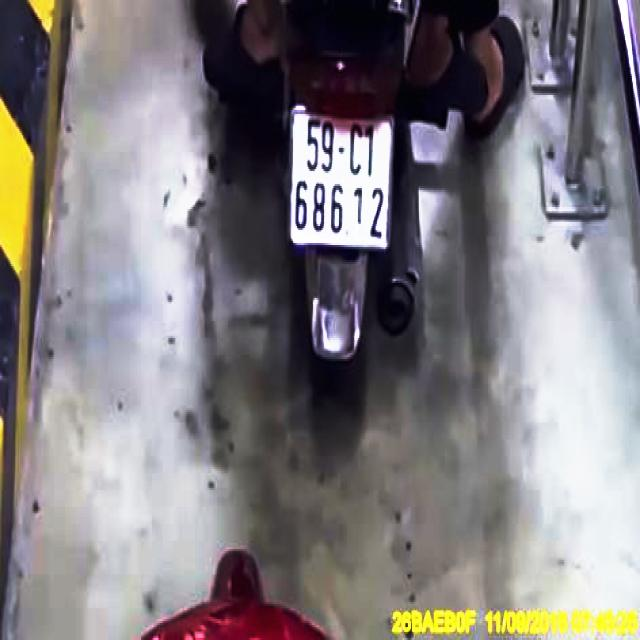license_plate: (290, 108, 393, 251)
